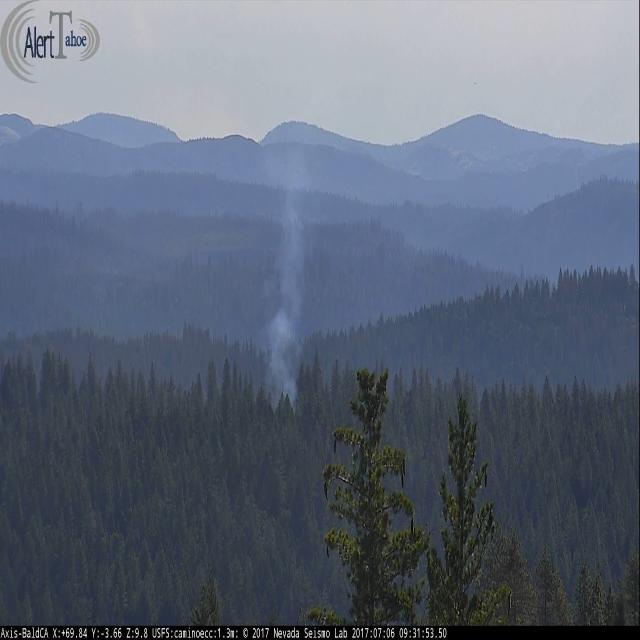smoke: (269, 191, 304, 415)
